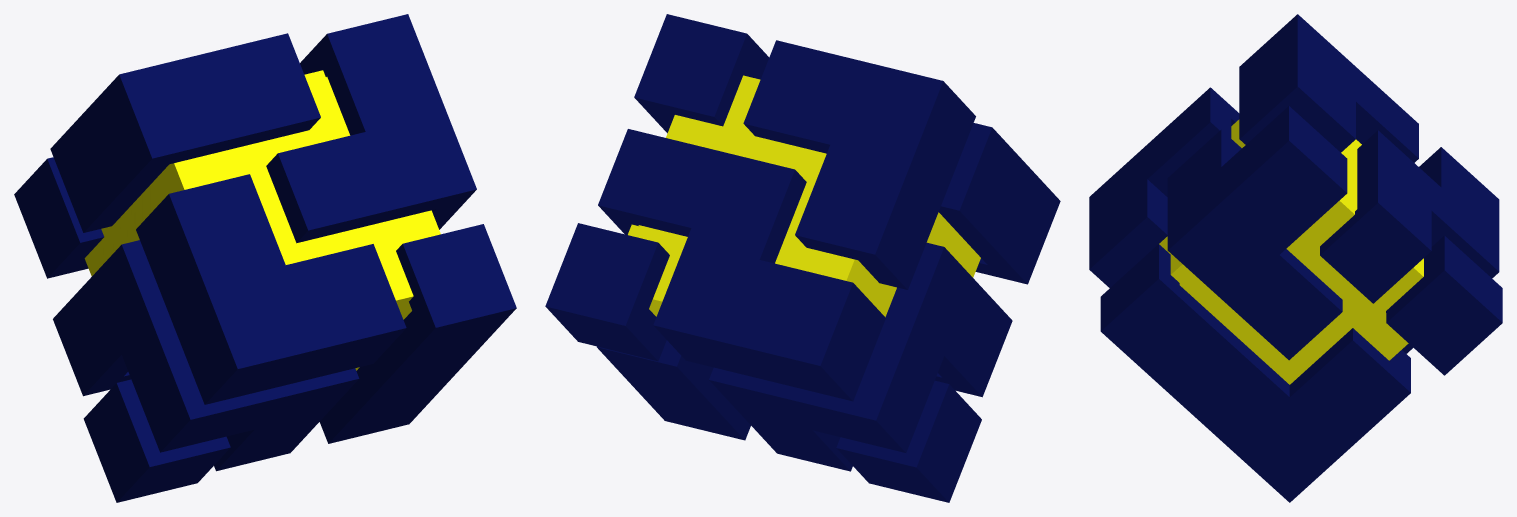
File: power_up_box.fbx
The picture shows the model from 3 angles, left to right: view 1: azimuth 30°, elevation 25°; view 2: azimuth 150°, elevation 25°; view 3: azimuth 270°, elevation 25°; orthographic projection. The views are drawn at different scales.
Visible parts, largest first — view 1: Box001; view 2: Box001; view 3: Box001.
Boxes of the visible parts, <box> form: Box001: <box>14,14,516,502</box>; Box001: <box>545,14,1060,502</box>; Box001: <box>1089,14,1502,502</box>.
Bounding box in the file's own units: 20.08 × 28.21 × 28.19.
